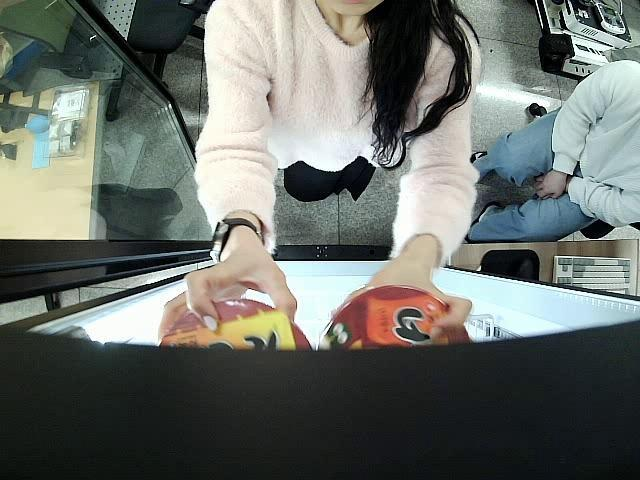05_nuguri_L: (316, 284, 472, 352), (152, 299, 312, 356)
